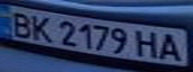1: (72, 20, 93, 50)
2: (54, 18, 78, 47)
7: (90, 22, 112, 52)
9: (109, 25, 133, 55)
A: (157, 32, 187, 62)
B: (3, 9, 36, 38)
H: (133, 28, 163, 58)
K: (27, 12, 57, 43)
